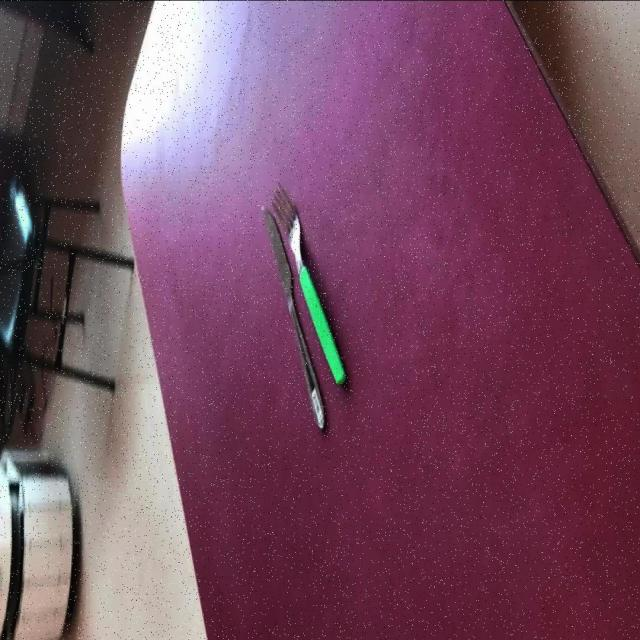Fork: (269, 181, 347, 385)
Knife: (261, 202, 326, 429)
